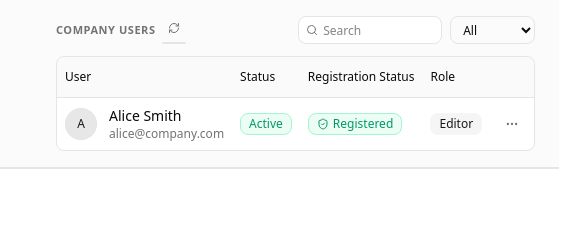
Test: CompanyUsersRow — status action menu › offers Deactivate user for an active, non-self user
The width and height of the screenshot is (576, 247).
Check: the text "Alice Smith" is shown, box [109,106,182,124]
Click the button named "Actions for Alice Smith" at x=512, y=124, box [498,110,526,138]
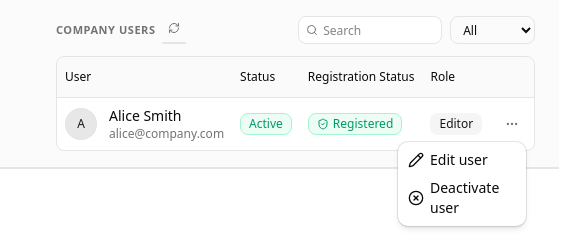
Check: the menu item "Deactivate user" is shown, box [408,178,499,217]
